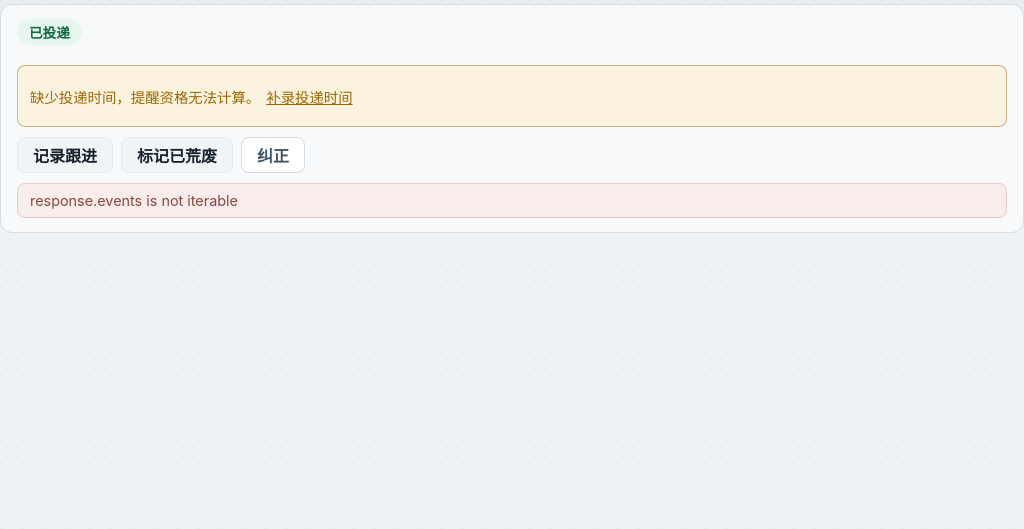
T058 纠正表单与缺失投递时间补录 › 未来时间在客户端被预警且不发送请求；无时区控件的非法值被 DOM 归一为空后仍按缺时间规则阻断
Click the button with test id "lca-open-correction": coordinates (273, 155) [241,137,305,173]
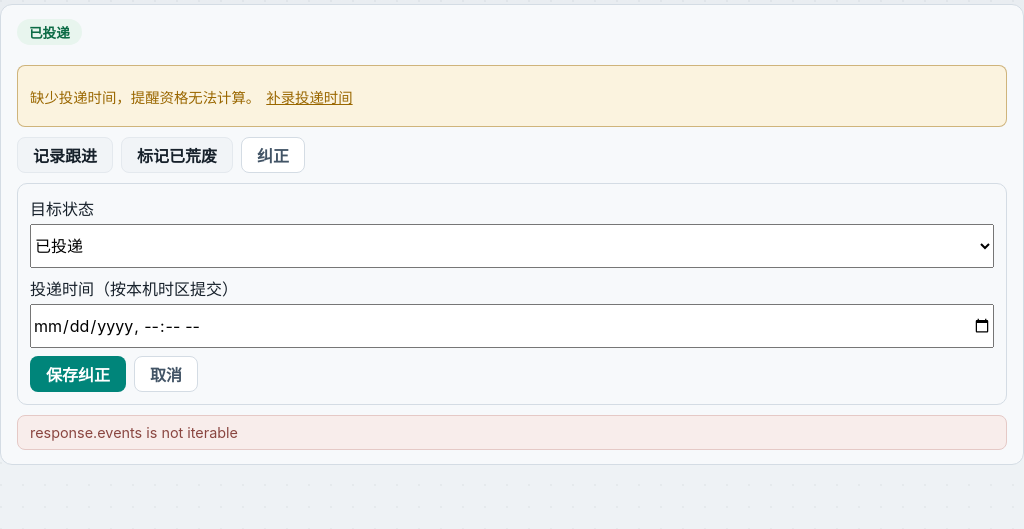
In the field with test id "lca-correction-time": coordinates (512, 326) [30,304,994,348], type "2999-01-01T00:00"
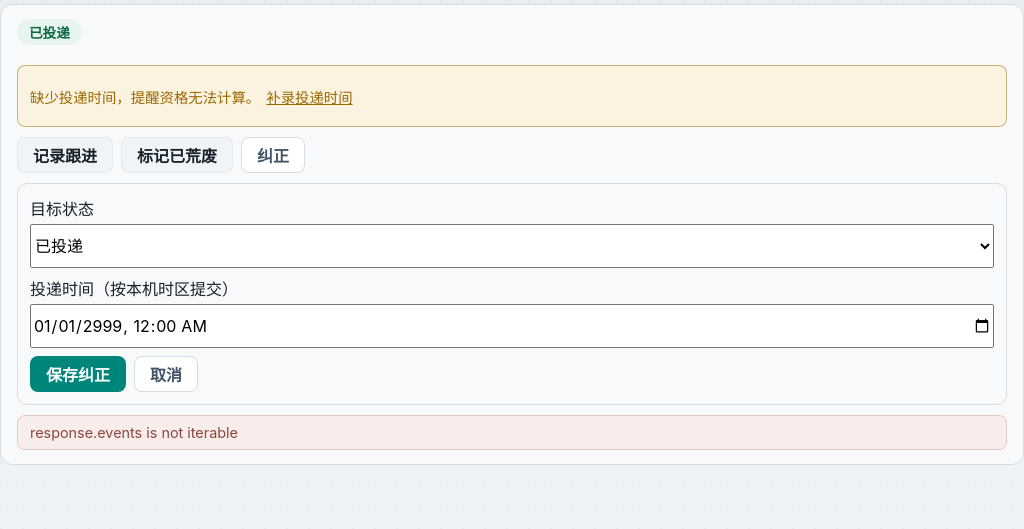
Submit the form from the button with test id "lca-correction-submit", box [30,356,126,392]
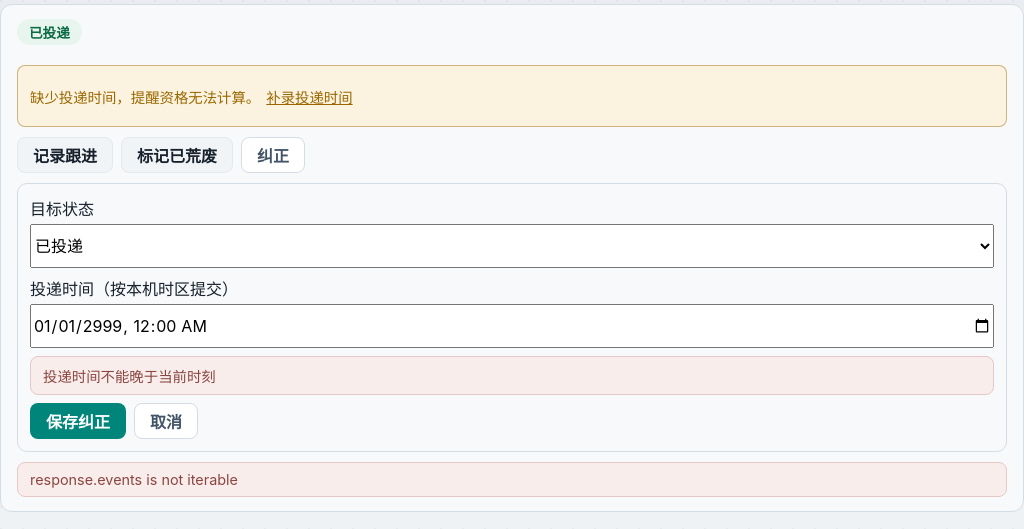
Now the message with test id "lca-correction-error" shows "不能晚于当前时刻", box [43,368,216,385]
Select "已投递" in the dropdown with test id "lca-correction-status": coordinates (512, 246) [30,224,994,268]
Replace the text in the field with test id "lca-correction-time" with "not-a-date": coordinates (512, 326) [30,304,994,348]
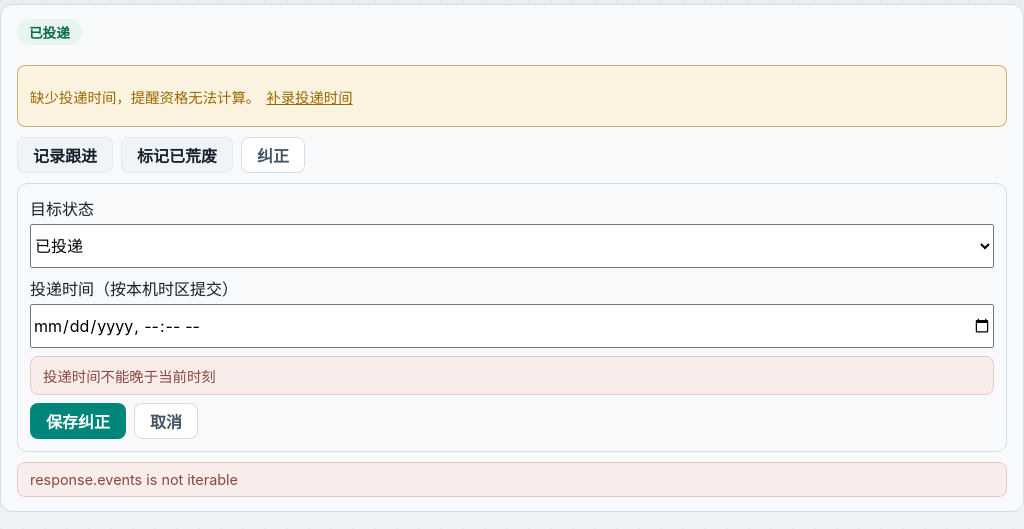
Now the field with test id "lca-correction-time" is empty, box [30,304,994,348]
Submit the form from the button with test id "lca-correction-submit", box [30,403,126,439]
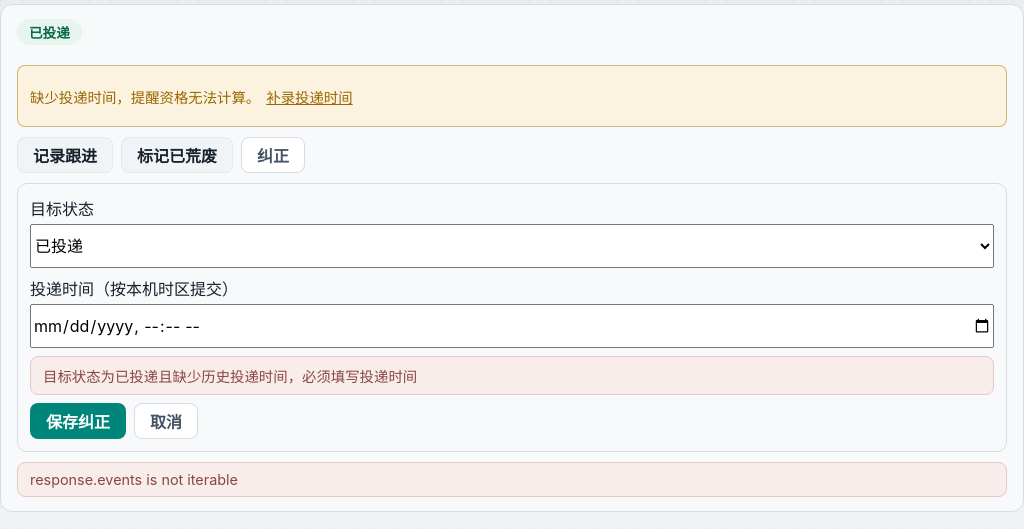
Now the message with test id "lca-correction-error" shows "必须填写投递时间", box [43,368,417,385]
